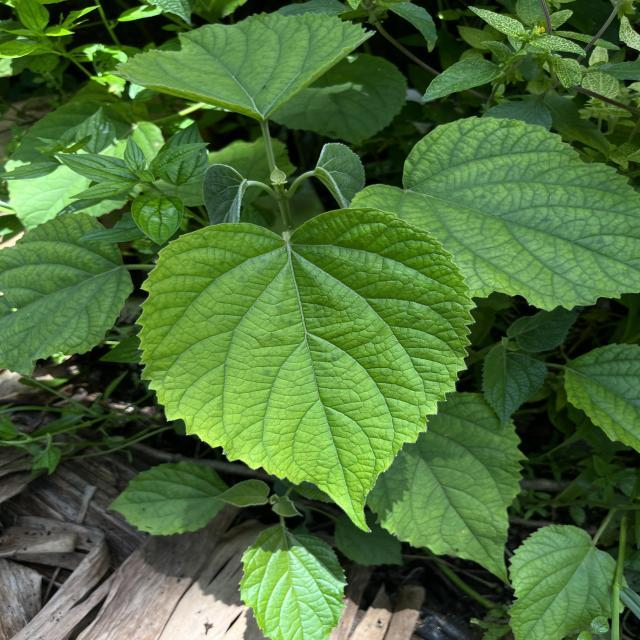Clerodendrum infortunatum: (135, 205, 478, 536), (347, 112, 640, 314), (368, 389, 526, 591), (108, 10, 377, 121), (0, 208, 136, 376)
